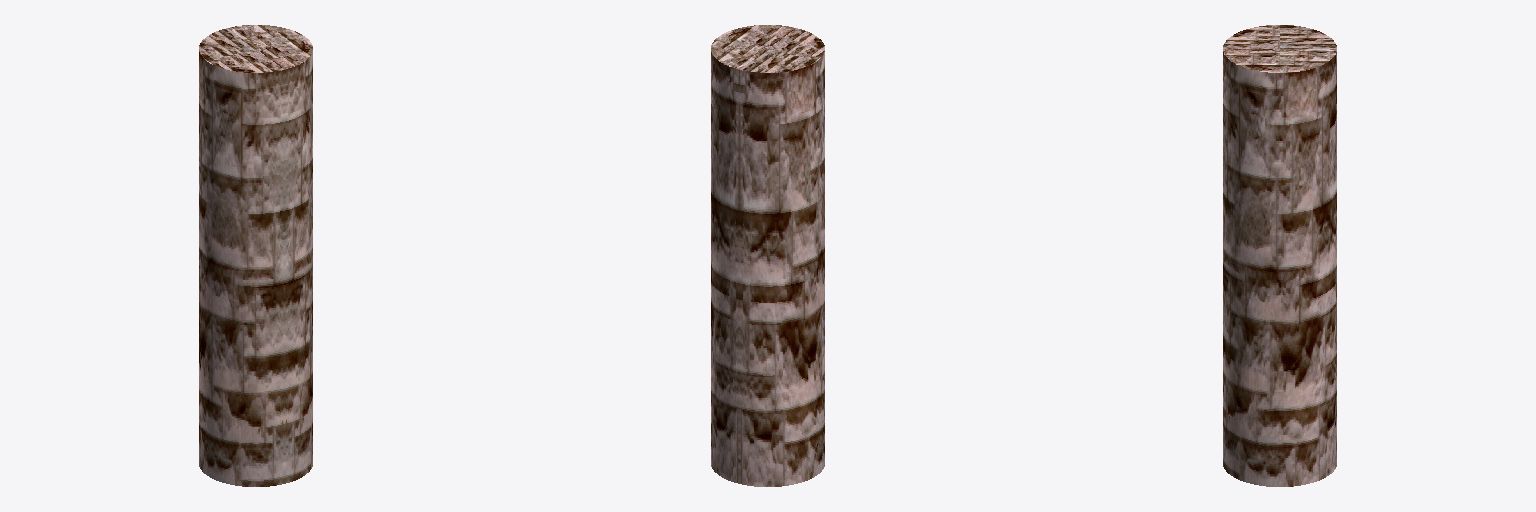
The picture shows the model from 3 angles: view 1: azimuth 30°, elevation 25°; view 2: azimuth 150°, elevation 25°; view 3: azimuth 270°, elevation 25°; orthographic projection.
Parts seen in each view (by area): view 1: grp1; view 2: grp1; view 3: grp1.
Boxes of the visible parts, x1=… form: grp1: x1=199, y1=25, x2=312, y2=486; grp1: x1=711, y1=25, x2=824, y2=486; grp1: x1=1223, y1=25, x2=1336, y2=486.
Size of the model in its own units: 1 by 4 by 1.
Materials: 1 (1 with a texture image).